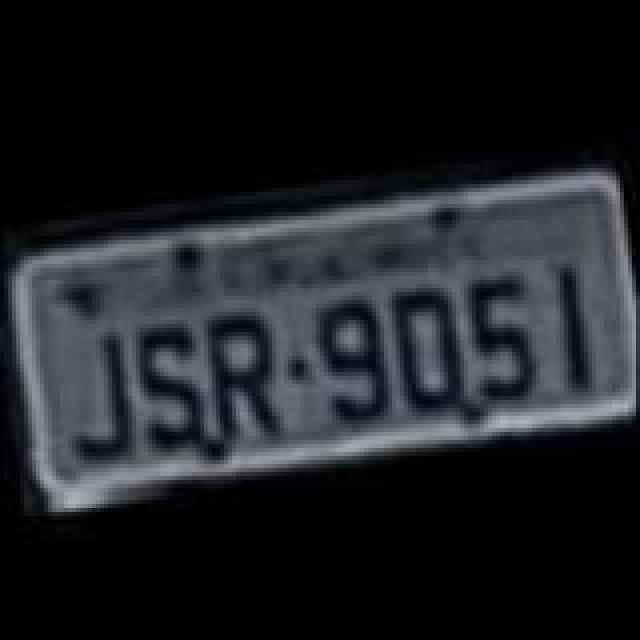1: (538, 248, 602, 388)
5: (452, 260, 552, 412)
9: (304, 286, 400, 430)
J: (46, 322, 154, 466)
O: (378, 274, 482, 418)
R: (192, 298, 296, 446)
S: (114, 306, 214, 454)
